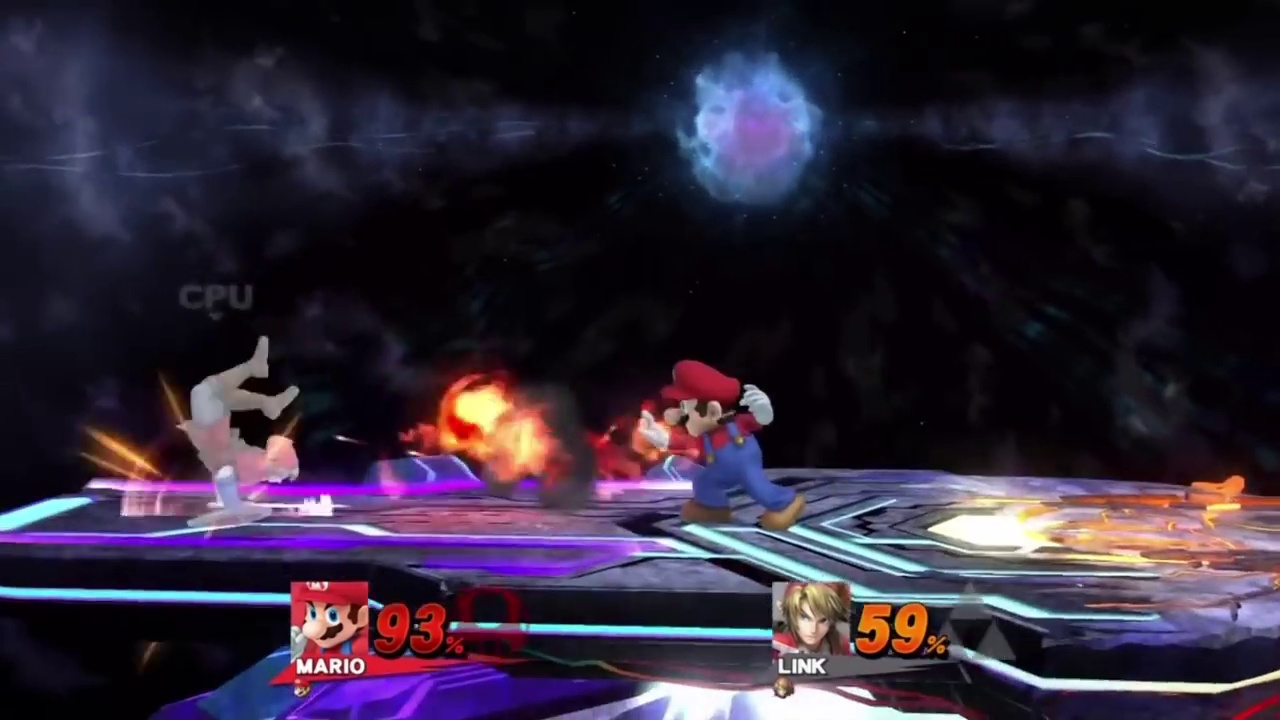Mario: (634, 362, 803, 536)
